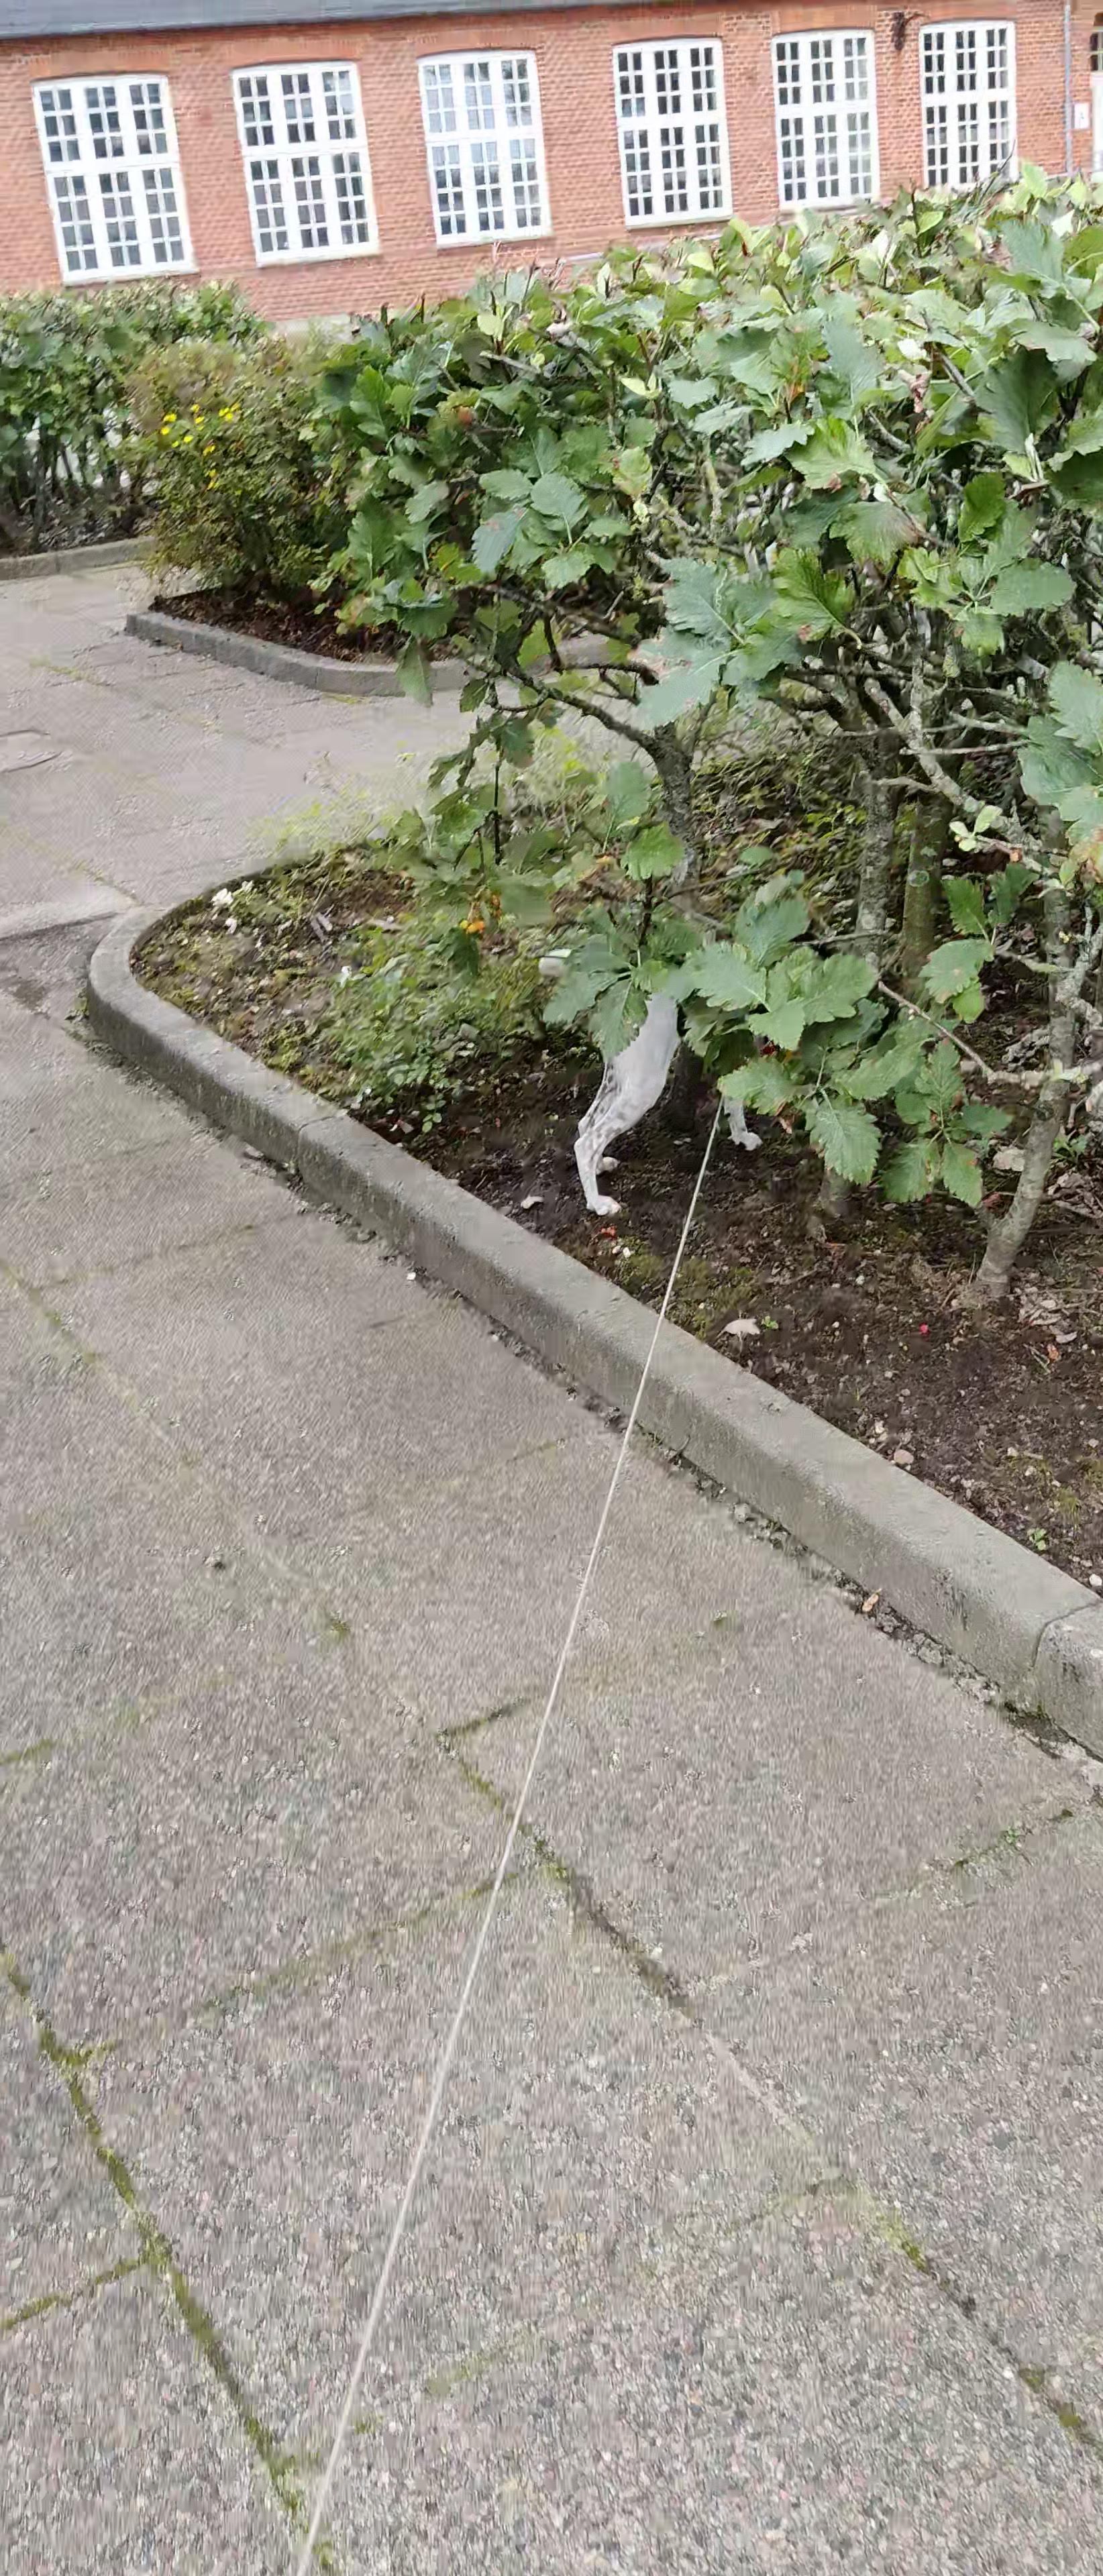Dog: (529, 912, 810, 1219)
